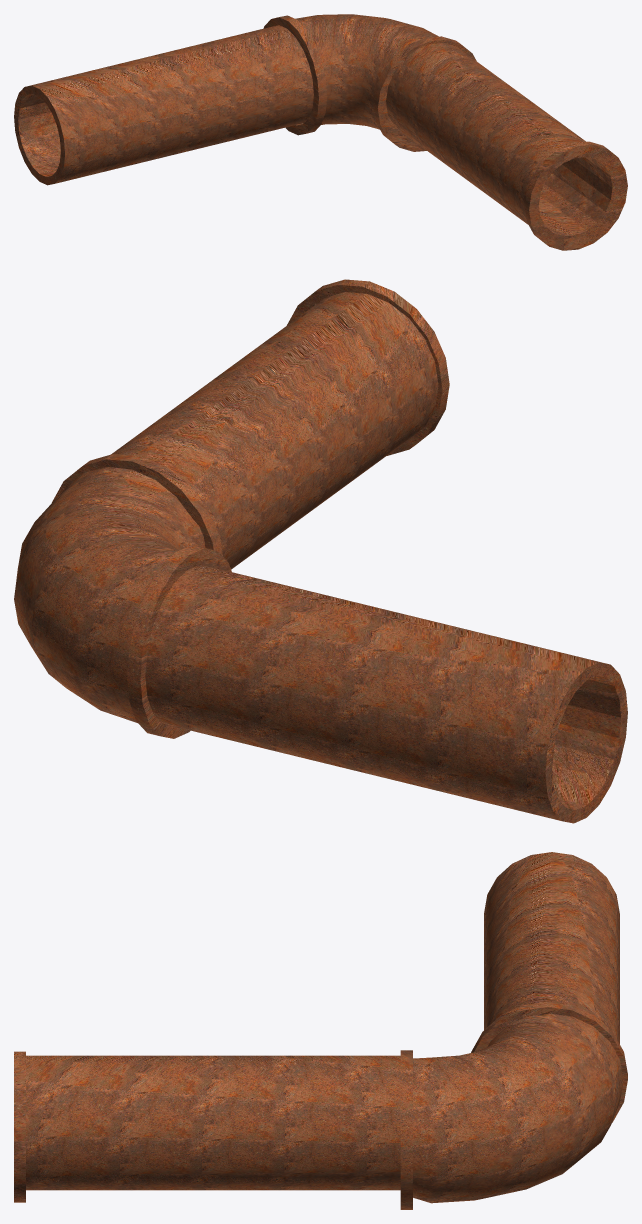
Rendered from pipe 7 c.fbx.
3 renders of one model, top to bottom at view 1: azimuth 30°, elevation 25°; view 2: azimuth 150°, elevation 25°; view 3: azimuth 270°, elevation 25°, orthographic. The views are drawn at different scales.
Parts seen in each view (by area): view 1: pTorus46; view 2: pTorus46; view 3: pTorus46.
Part boxes in pixels (x1,y1,x2,y2): pTorus46: [14, 14, 627, 250]; pTorus46: [14, 279, 627, 823]; pTorus46: [14, 852, 627, 1209].
Size of the model in its own units: 6828 by 1865 by 7075.
